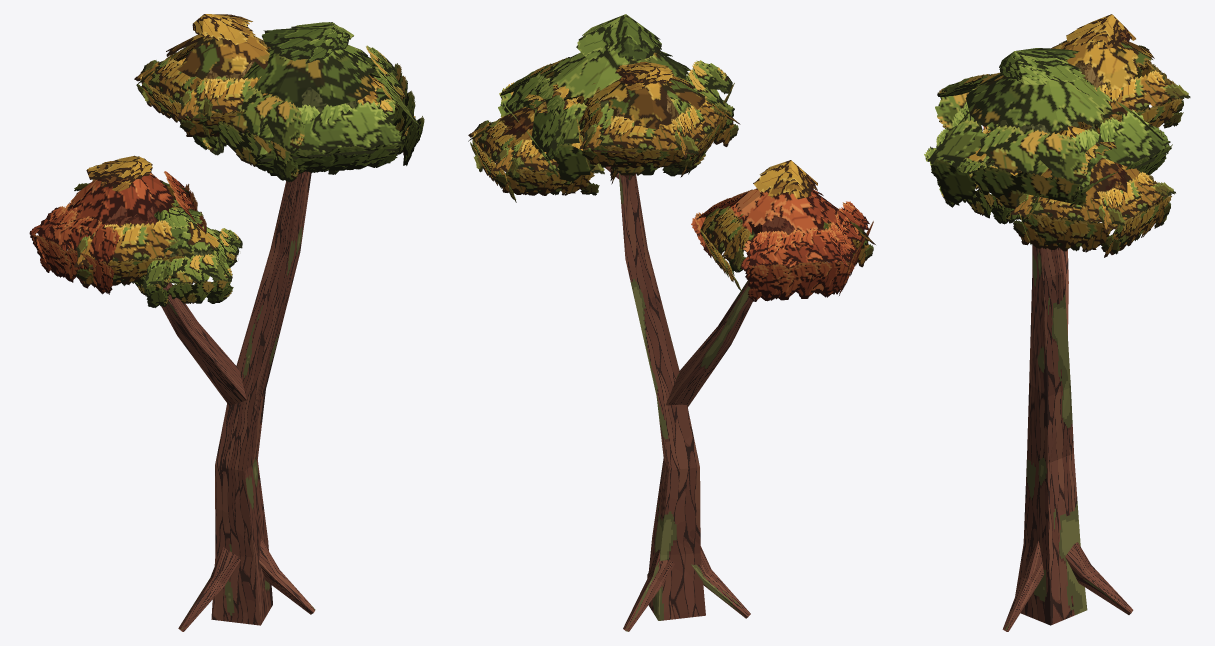
File: SM_TR09_YoungFork.fbx
3 views of the same model, side by side, from view 1: azimuth 30°, elevation 25°; view 2: azimuth 150°, elevation 25°; view 3: azimuth 270°, elevation 25° (orthographic). The views are drawn at different scales.
Visible parts, largest first — view 1: TR09_Crown, TR09_Bark; view 2: TR09_Crown, TR09_Bark; view 3: TR09_Crown, TR09_Bark.
Part boxes in pixels (bbox=[...]): TR09_Crown: bbox=[29, 14, 424, 307]; TR09_Bark: bbox=[161, 171, 315, 631]; TR09_Crown: bbox=[468, 14, 875, 301]; TR09_Bark: bbox=[588, 147, 752, 631]; TR09_Crown: bbox=[924, 14, 1190, 257]; TR09_Bark: bbox=[1002, 245, 1133, 631].
Bounding box in the file's own units: 2.89 × 4.03 × 1.76.
